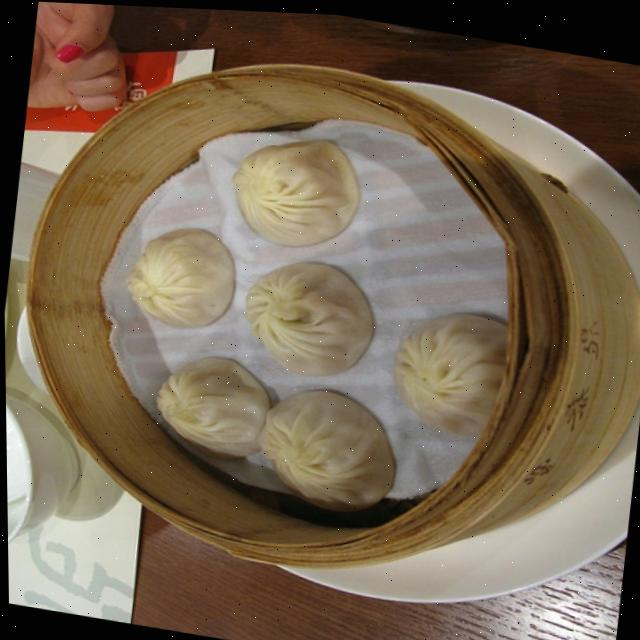带馅早点: (50, 118, 546, 537)
